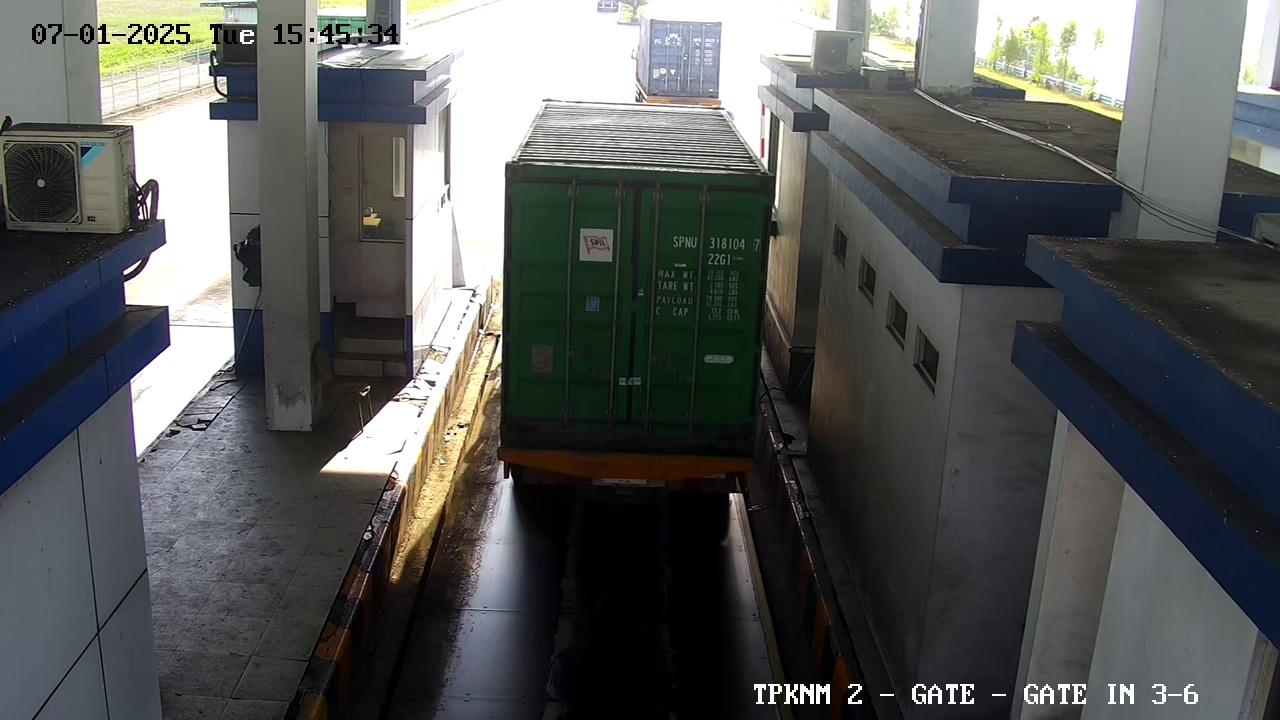Container_ID: (653, 225, 775, 253)
